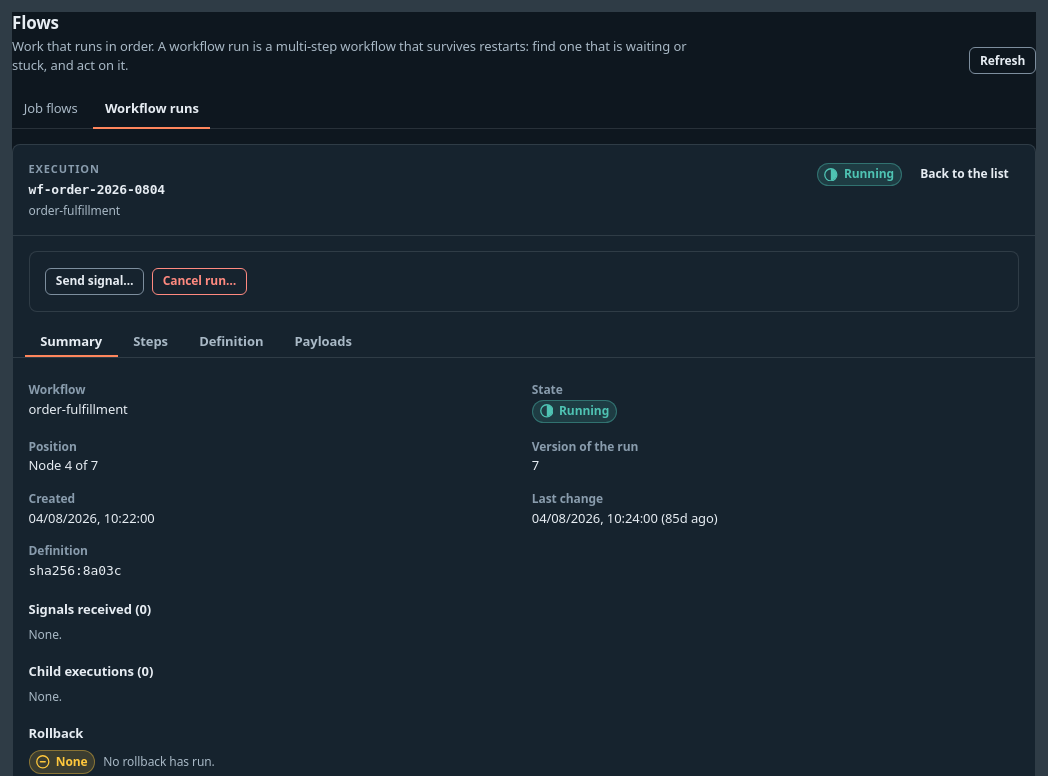
Test: workflow actions: a run that moved › is refused, nothing changes, and the run is read again
This screenshot has width=1048, height=776.
Click the button "Cancel run…": (199, 281) [152, 268, 247, 295]
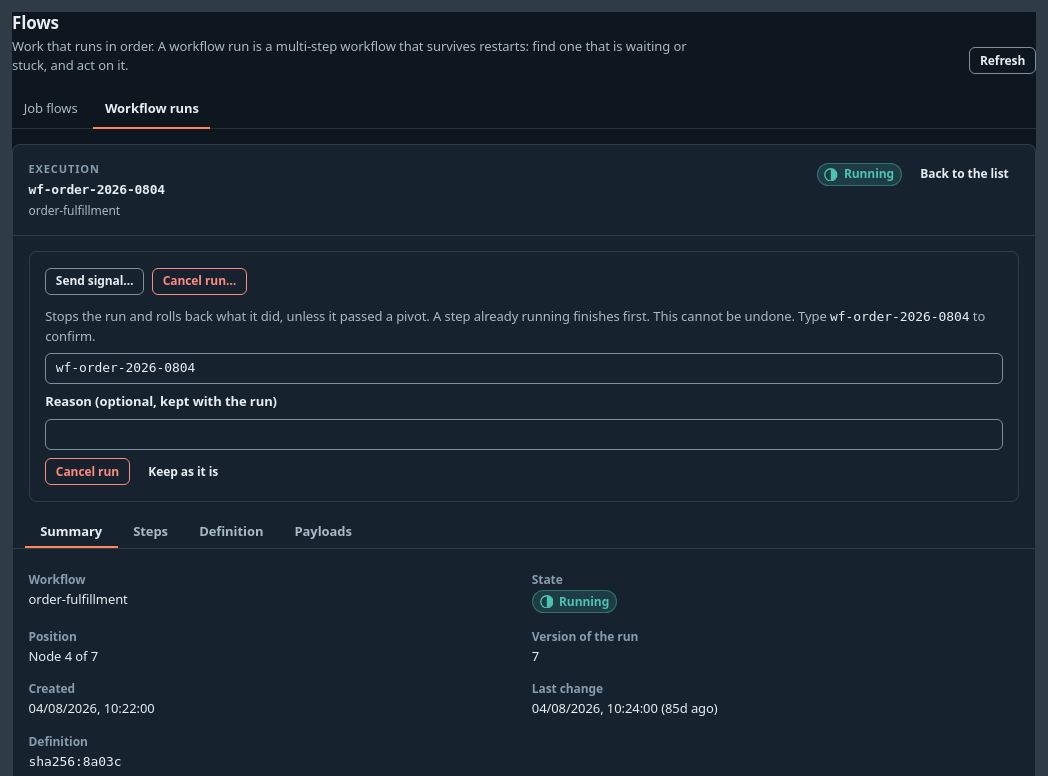
Submit the form, box [45, 307, 1003, 486]
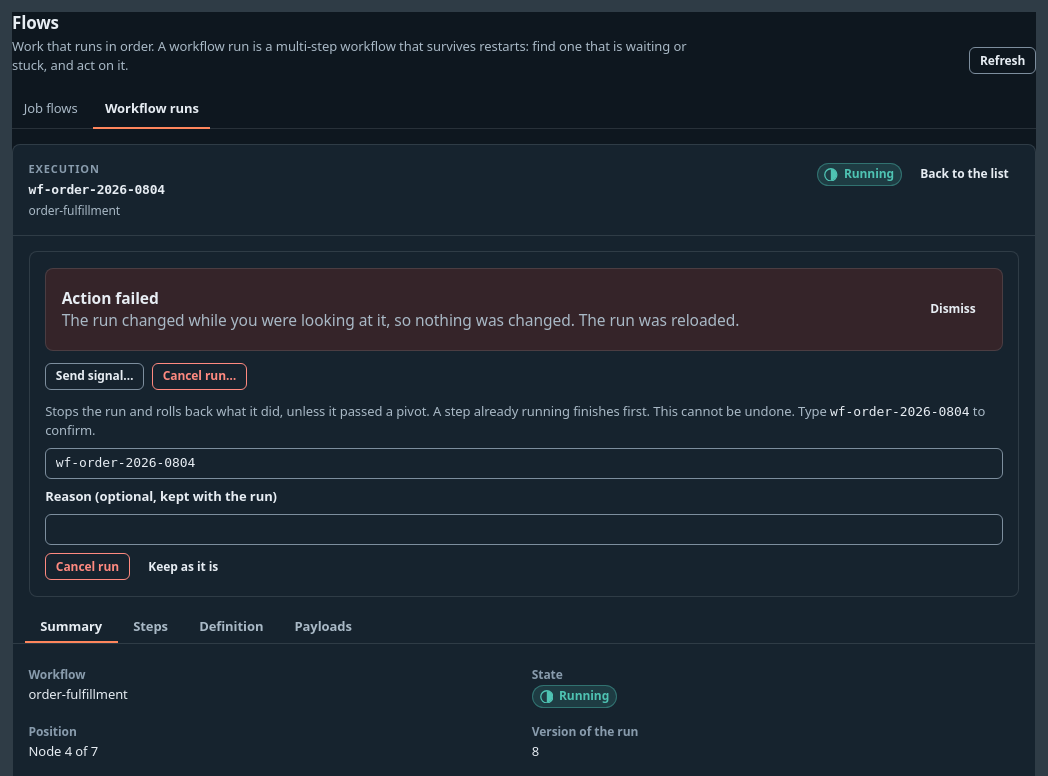
expect the message shows "changed while you were looking": met, box [62, 309, 739, 331]
